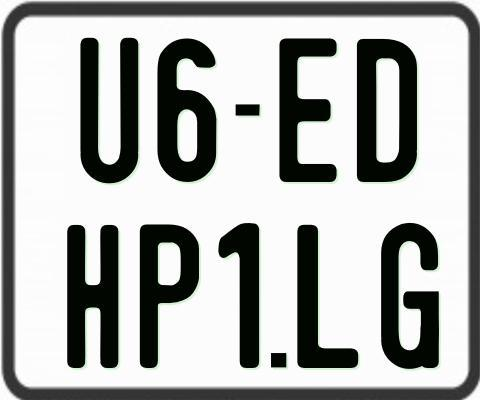1: (218, 223, 262, 369)
6: (155, 38, 217, 183)
D: (357, 39, 421, 186)
E: (277, 38, 338, 188)
G: (380, 223, 441, 371)
H: (66, 223, 117, 367)
L: (296, 222, 362, 369)
P: (139, 223, 204, 372)
U: (79, 38, 137, 187)
